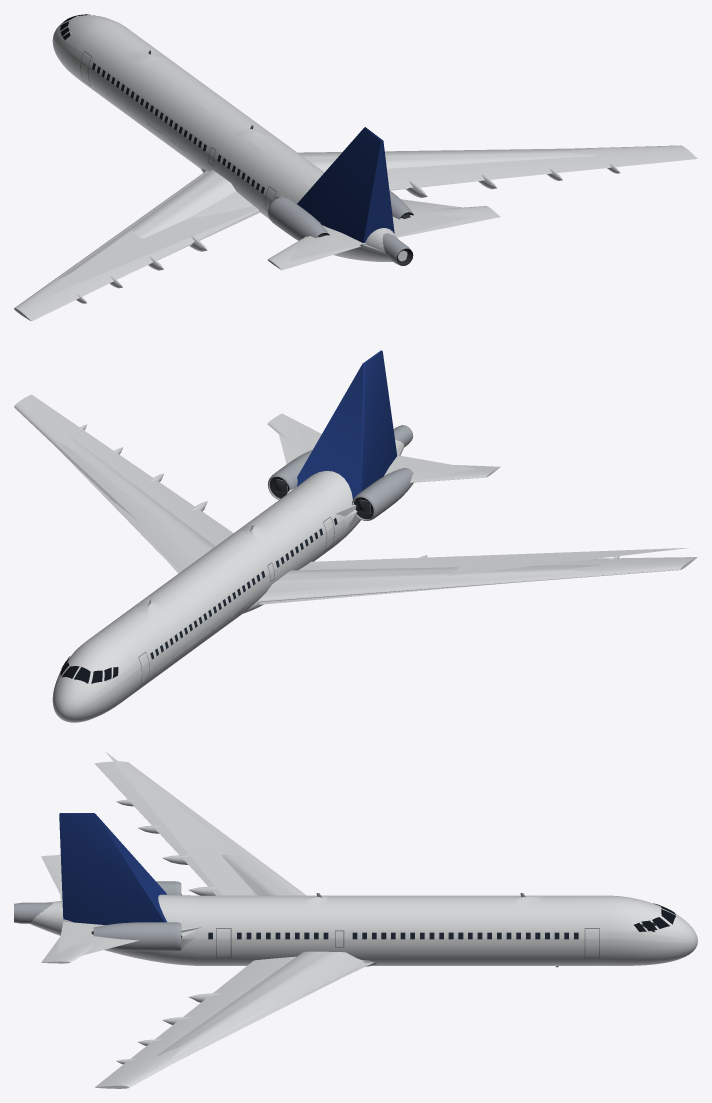
The model's file is lat_trijet_biz.dae.
The picture shows the model from 3 angles, top to bottom: view 1: azimuth 30°, elevation 25°; view 2: azimuth 150°, elevation 25°; view 3: azimuth 270°, elevation 25°; orthographic projection.
Visible parts, largest first — view 1: lat_trijet_biz150, lat_trijet_biz1, lat_trijet_biz32; view 2: lat_trijet_biz150, lat_trijet_biz1, lat_trijet_biz32; view 3: lat_trijet_biz150, lat_trijet_biz1, lat_trijet_biz32.
Part boxes in pixels (x1,y1,x2,y2): lat_trijet_biz150: [14, 14, 697, 321]; lat_trijet_biz1: [28, 127, 471, 303]; lat_trijet_biz32: [58, 18, 596, 279]; lat_trijet_biz150: [14, 394, 697, 722]; lat_trijet_biz1: [138, 350, 690, 575]; lat_trijet_biz32: [55, 436, 601, 689]; lat_trijet_biz150: [14, 761, 697, 1088]; lat_trijet_biz1: [56, 751, 373, 1004]; lat_trijet_biz32: [91, 798, 674, 1062].
Size of the model in its own units: 26.2 by 23.35 by 5.79.
